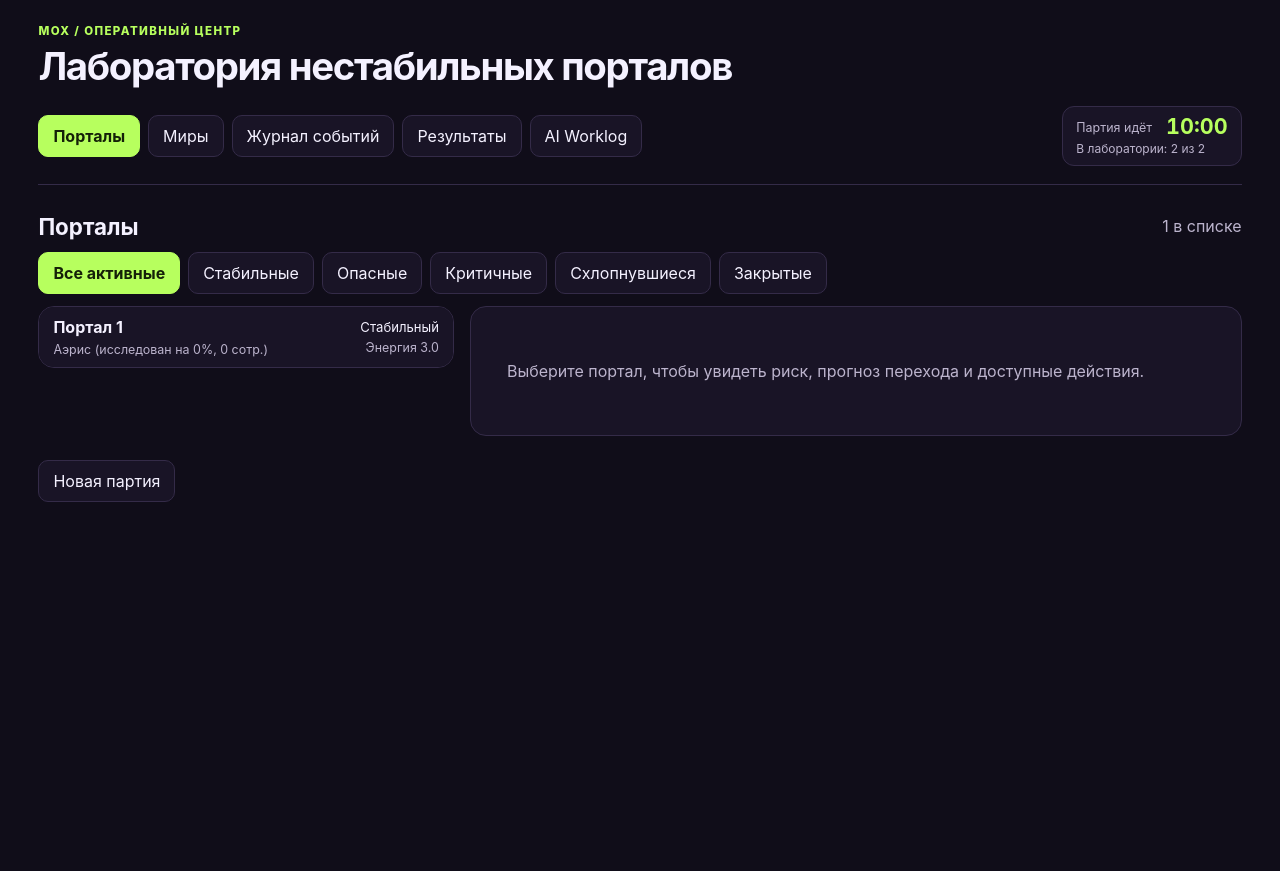
Test: App › позволяет оператору закрыть пустой портал без энергии для экспедиции
Click the button "Портал 1" at (88, 327), box left=39, top=307, right=453, bottom=367
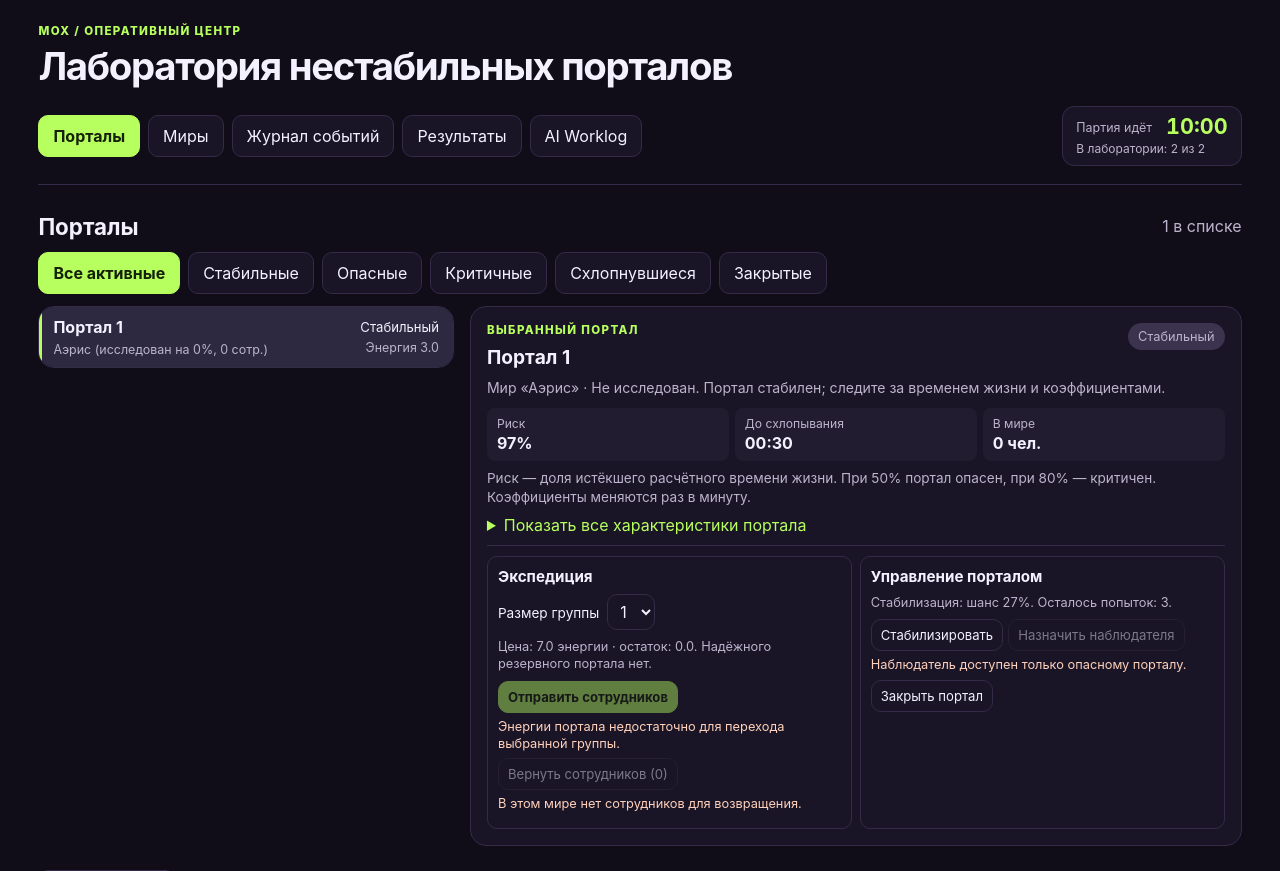
Now the button "Отправить сотрудников" is disabled, box left=498, top=681, right=678, bottom=713
Now the button "Закрыть портал" is enabled
Click the button "Закрыть портал" at (932, 696), box left=871, top=680, right=993, bottom=712
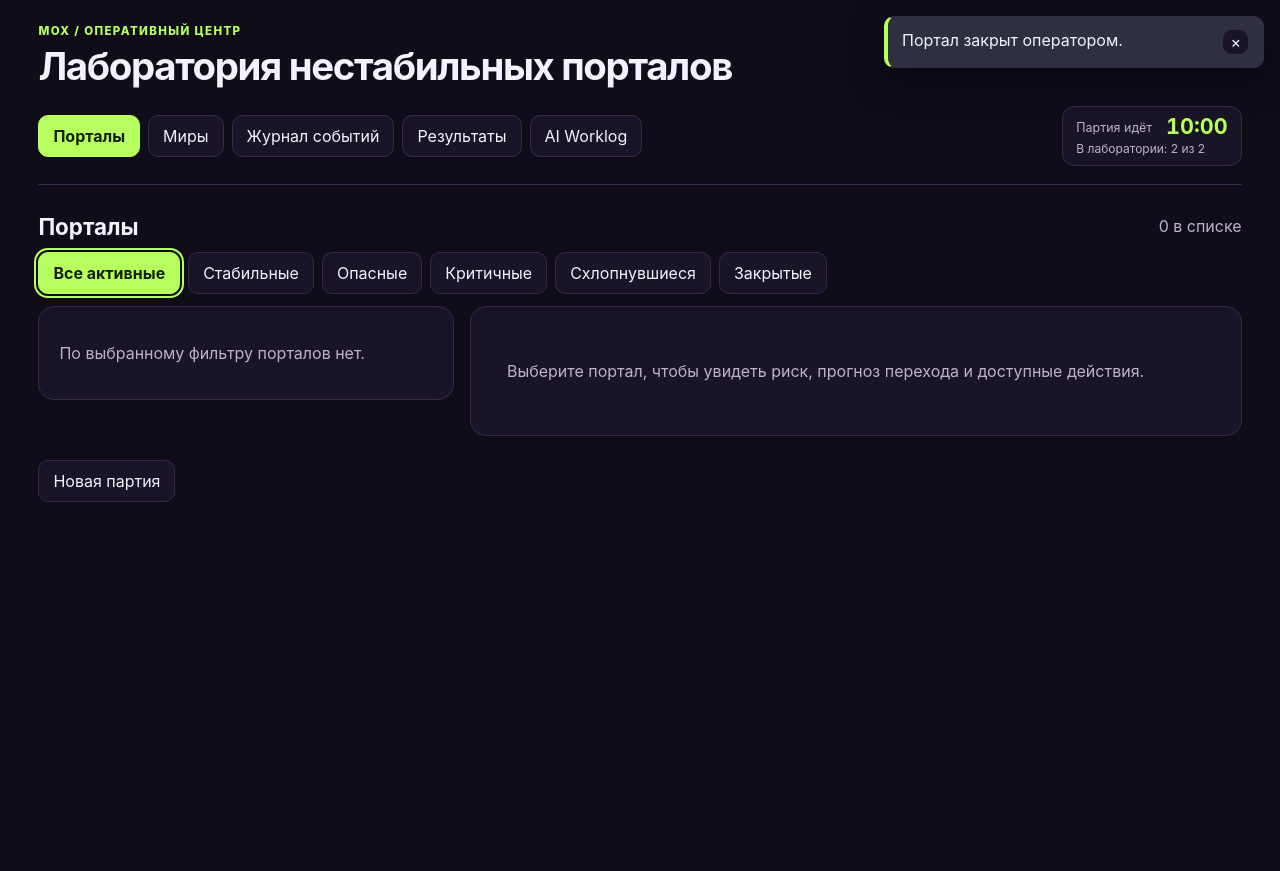
Click the button "Закрытые" at (773, 273), box left=719, top=252, right=827, bottom=294
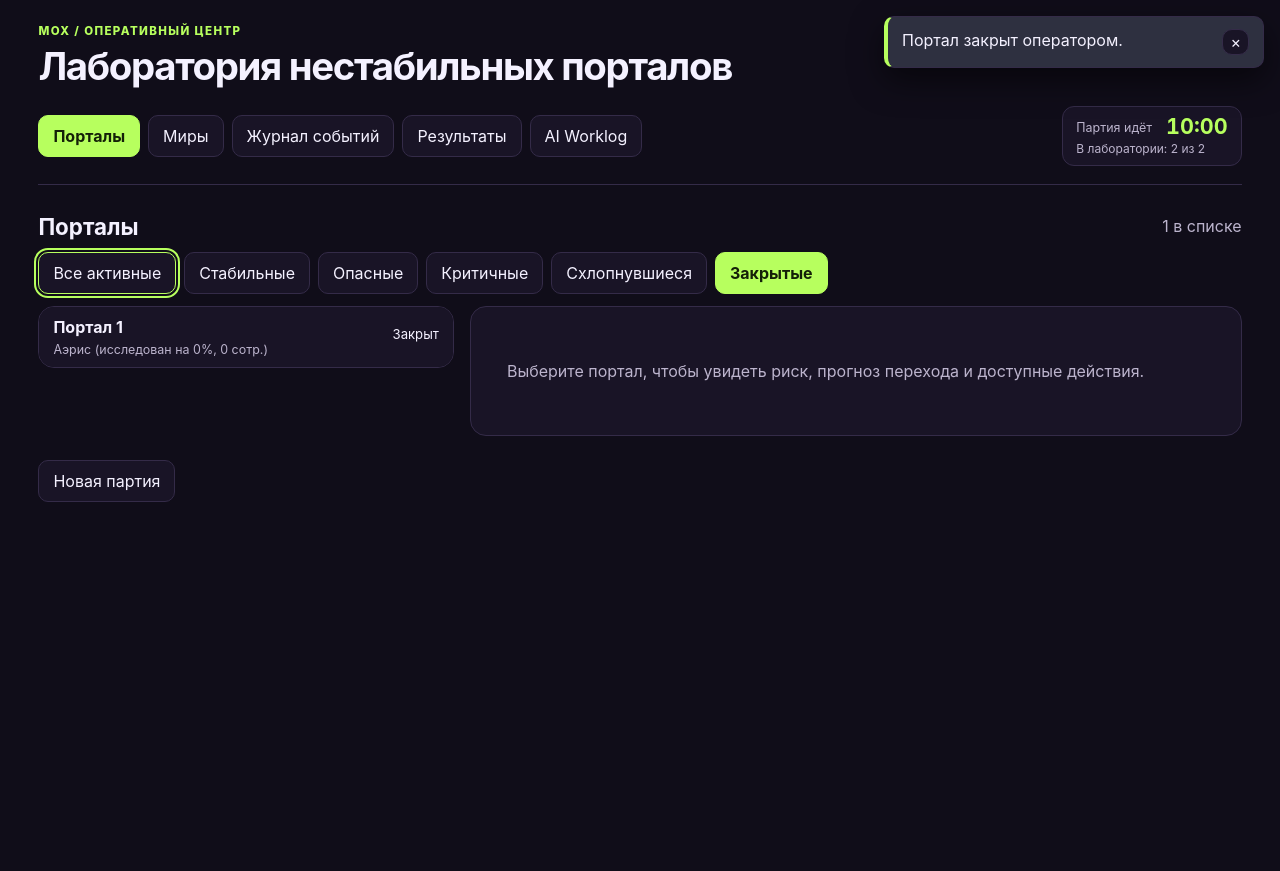
Click the button "Портал 1 Аэрис (исследован на 0%, 0 сотр.) Закрыт" at (88, 327), box left=39, top=307, right=453, bottom=367
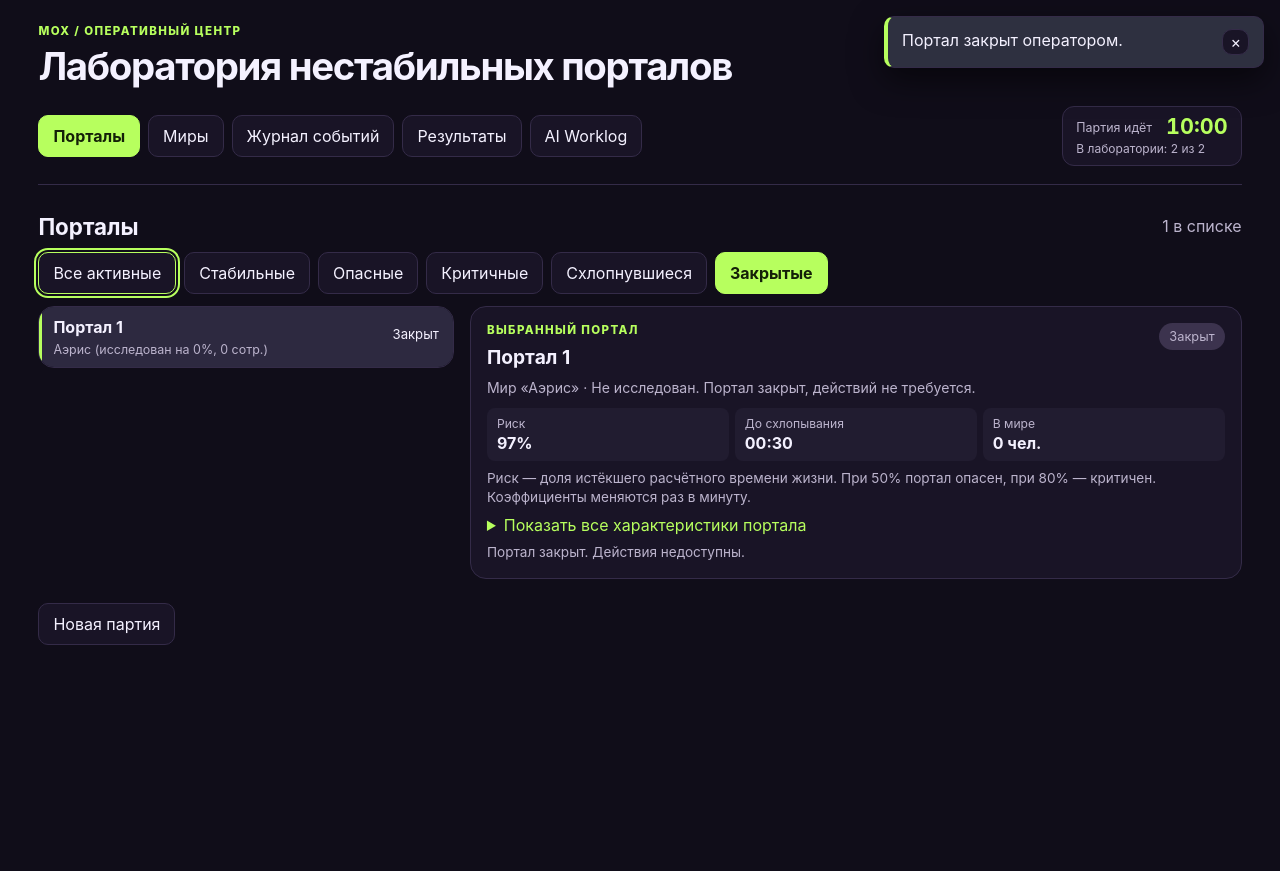
Now the text "Портал закрыт. Действия недоступны." is shown, box left=487, top=544, right=745, bottom=560
